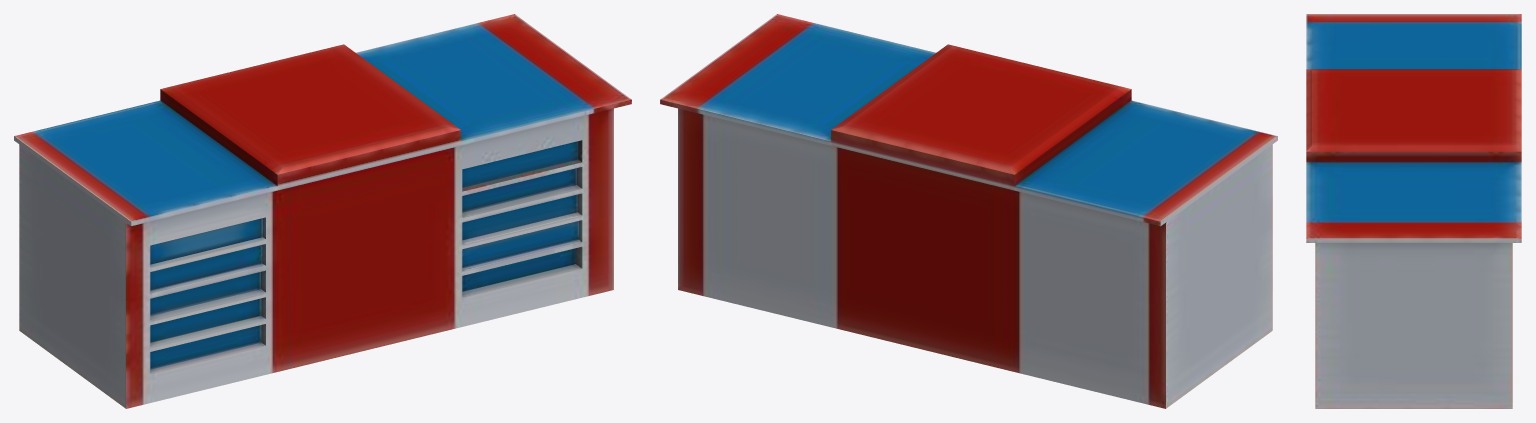
File: PREDIO_HOSPITAL.fbx
The picture shows the model from 3 angles, left to right: view 1: azimuth 30°, elevation 25°; view 2: azimuth 150°, elevation 25°; view 3: azimuth 270°, elevation 25°; orthographic projection. The views are drawn at different scales.
Parts seen in each view (by area): view 1: polySurface5; view 2: polySurface5; view 3: polySurface5.
Boxes of the visible parts, x1,y1,x2,y2 form: polySurface5: (14,14,631,408); polySurface5: (660,14,1277,408); polySurface5: (1306,14,1521,408).
Bounding box in the file's own units: 8.78 × 3.44 × 3.56.
Materials: 1 (1 with a texture image).
